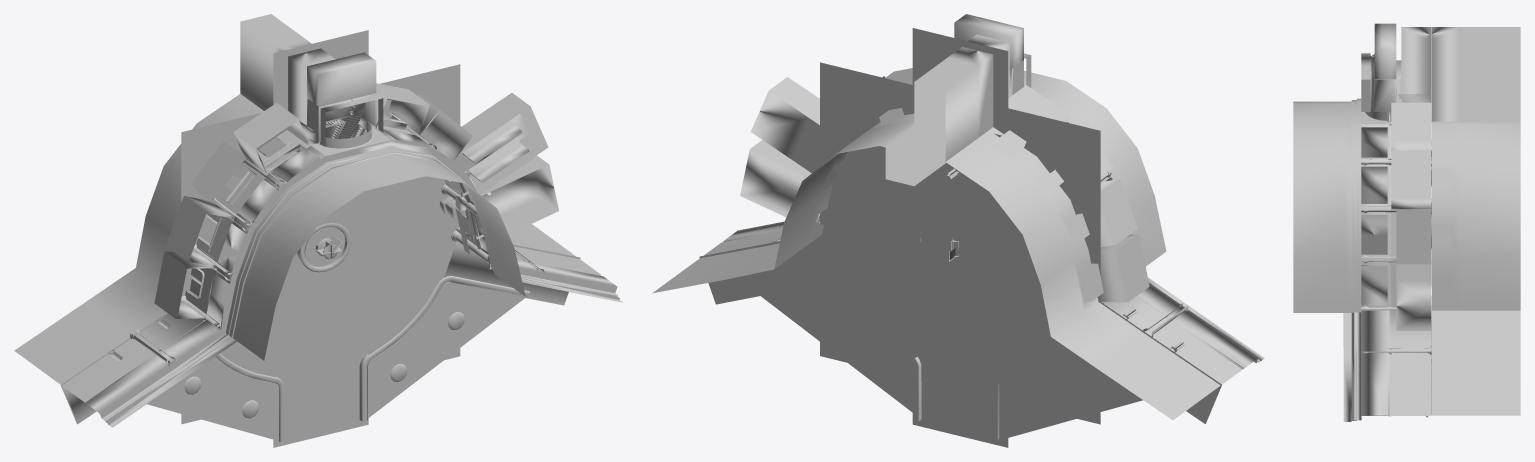
The model's file is paulownia_mall.obj.
The picture shows the model from 3 angles, left to right: view 1: azimuth 30°, elevation 25°; view 2: azimuth 150°, elevation 25°; view 3: azimuth 270°, elevation 25°; orthographic projection. The views are drawn at different scales.
Parts seen in each view (by area): view 1: Atomic29.001_Mesh, Atomic0.006_Mesh, Atomic13.001_Mesh, Atomic34_Mesh, Atomic0.005_Mesh, Atomic29_Mesh, Atomic0.002_Mesh, Atomic0.007_Mesh, Atomic30.001_Mesh, Atomic3_Mesh, Atomic34.001_Mesh, Atomic54.001_Mesh (+9 smaller); view 2: Atomic3_Mesh, Atomic13.001_Mesh, Atomic29.001_Mesh, Atomic0.007_Mesh, Atomic0.005_Mesh, Atomic0.002_Mesh, Atomic34_Mesh, Atomic6_Mesh, Atomic54_Mesh, Atomic31_Mesh, Atomic0_Mesh, Atomic0.006_Mesh (+2 smaller); view 3: Atomic13.001_Mesh, Atomic0.006_Mesh, Atomic0.005_Mesh, Atomic0.007_Mesh, Atomic0.002_Mesh, Atomic31.001_Mesh, Atomic54.001_Mesh, Atomic28.001_Mesh, Atomic30.001_Mesh, Atomic0.003_Mesh.
Boxes of the visible parts, left/top/right/bottom form: Atomic29.001_Mesh: left=60, top=30, right=580, bottom=447; Atomic0.006_Mesh: left=62, top=48, right=623, bottom=427; Atomic13.001_Mesh: left=14, top=14, right=575, bottom=384; Atomic34_Mesh: left=147, top=227, right=528, bottom=441; Atomic0.005_Mesh: left=237, top=156, right=525, bottom=360; Atomic29_Mesh: left=185, top=132, right=458, bottom=381; Atomic0.002_Mesh: left=154, top=52, right=472, bottom=318; Atomic0.007_Mesh: left=63, top=49, right=616, bottom=412; Atomic30.001_Mesh: left=62, top=97, right=618, bottom=423; Atomic3_Mesh: left=181, top=64, right=460, bottom=424; Atomic34.001_Mesh: left=216, top=223, right=530, bottom=441; Atomic54.001_Mesh: left=459, top=93, right=548, bottom=190; Atomic3_Mesh: left=820, top=62, right=1100, bottom=424; Atomic13.001_Mesh: left=652, top=47, right=1220, bottom=420; Atomic29.001_Mesh: left=699, top=28, right=1221, bottom=447; Atomic0.007_Mesh: left=704, top=34, right=1258, bottom=384; Atomic0.005_Mesh: left=1024, top=70, right=1166, bottom=266; Atomic0.002_Mesh: left=819, top=14, right=1149, bottom=302; Atomic34_Mesh: left=761, top=284, right=1142, bottom=437; Atomic6_Mesh: left=845, top=133, right=1001, bottom=350; Atomic54_Mesh: left=750, top=91, right=819, bottom=172; Atomic31_Mesh: left=740, top=149, right=818, bottom=221; Atomic0_Mesh: left=901, top=22, right=1127, bottom=302; Atomic0.006_Mesh: left=724, top=68, right=1264, bottom=368; Atomic13.001_Mesh: left=1431, top=27, right=1520, bottom=415; Atomic0.006_Mesh: left=1343, top=27, right=1431, bottom=421; Atomic0.005_Mesh: left=1293, top=101, right=1343, bottom=312; Atomic0.007_Mesh: left=1361, top=27, right=1429, bottom=415; Atomic0.002_Mesh: left=1374, top=23, right=1431, bottom=209; Atomic31.001_Mesh: left=1396, top=264, right=1431, bottom=330; Atomic54.001_Mesh: left=1396, top=209, right=1431, bottom=264; Atomic28.001_Mesh: left=1361, top=156, right=1431, bottom=354; Atomic30.001_Mesh: left=1354, top=310, right=1430, bottom=420; Atomic0.003_Mesh: left=1361, top=111, right=1431, bottom=124.
Bounding box in the file's own units: 5590 × 4052 × 2267.
